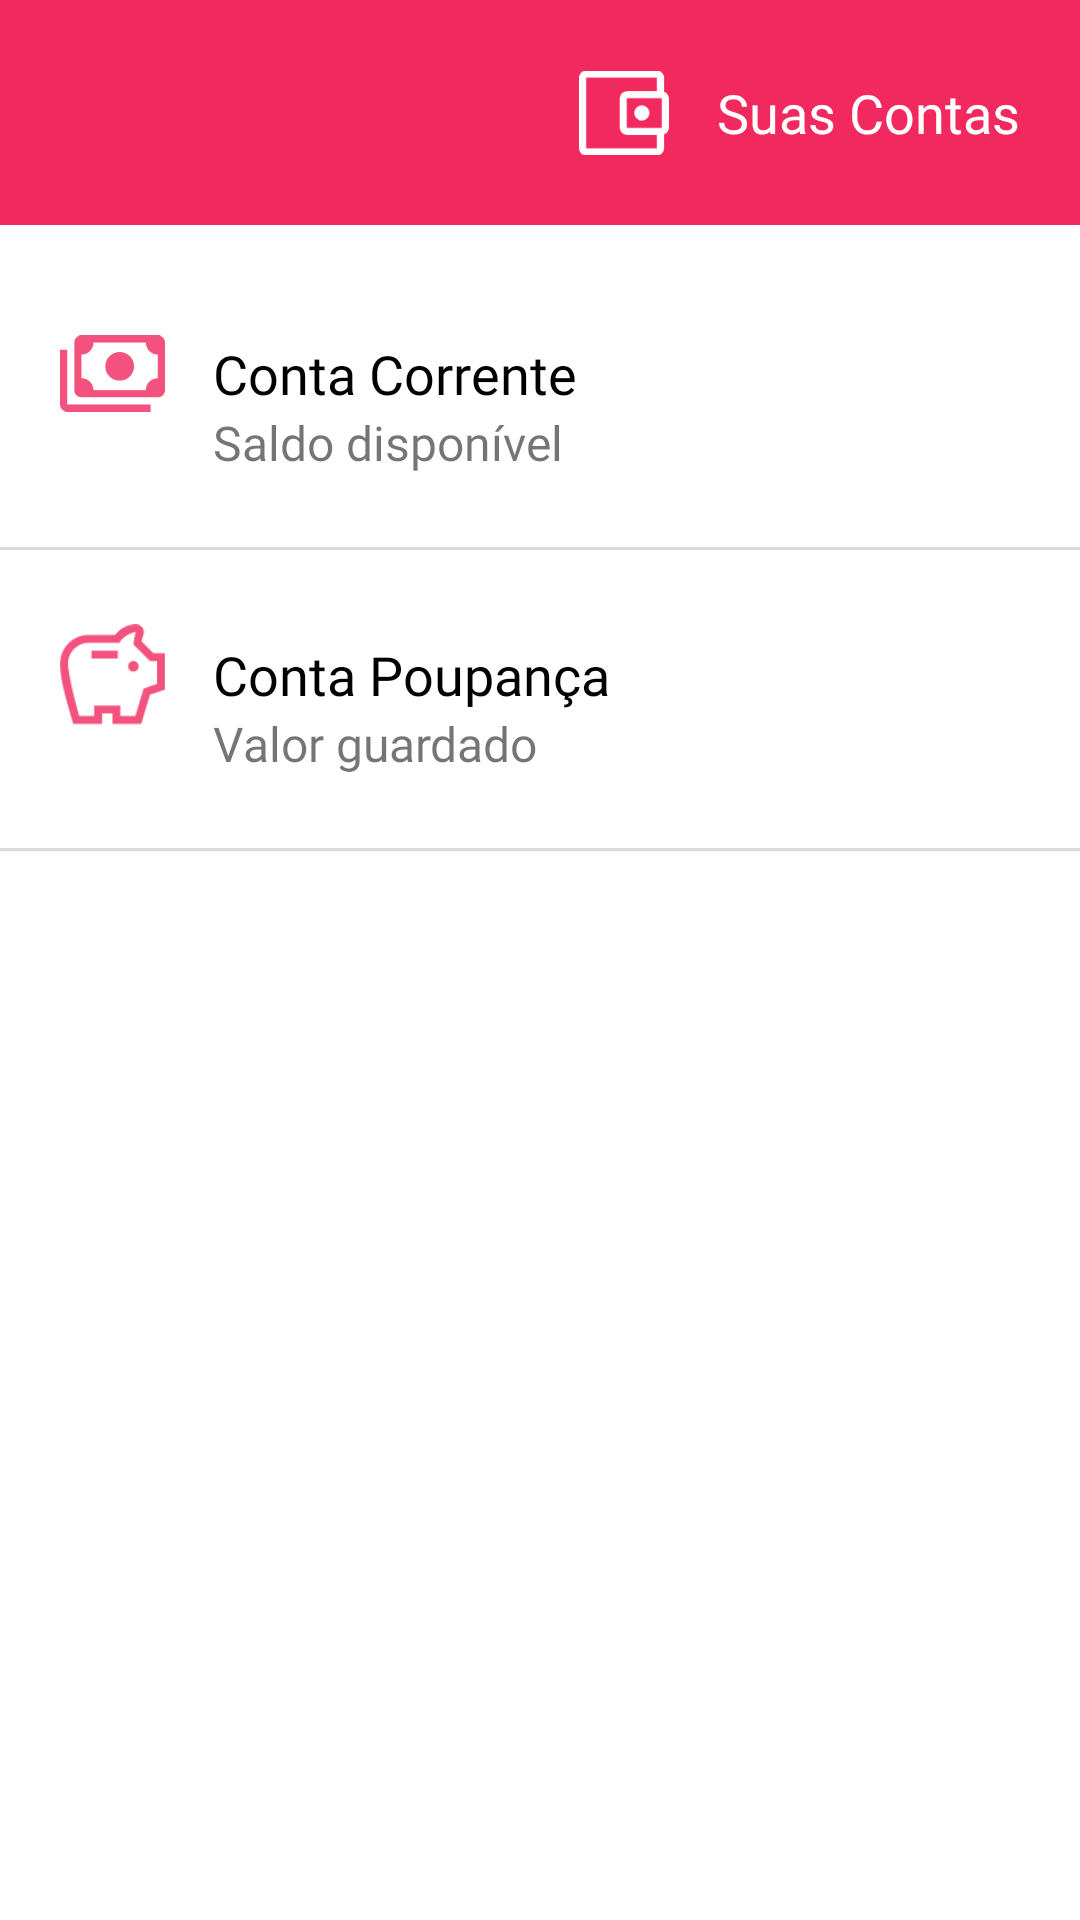

Icon click points for this 1080 × 1920 phone screenshot, format point (x, y):
conta poupanca rosa: point (112, 674)
contas branco: point (624, 113)
